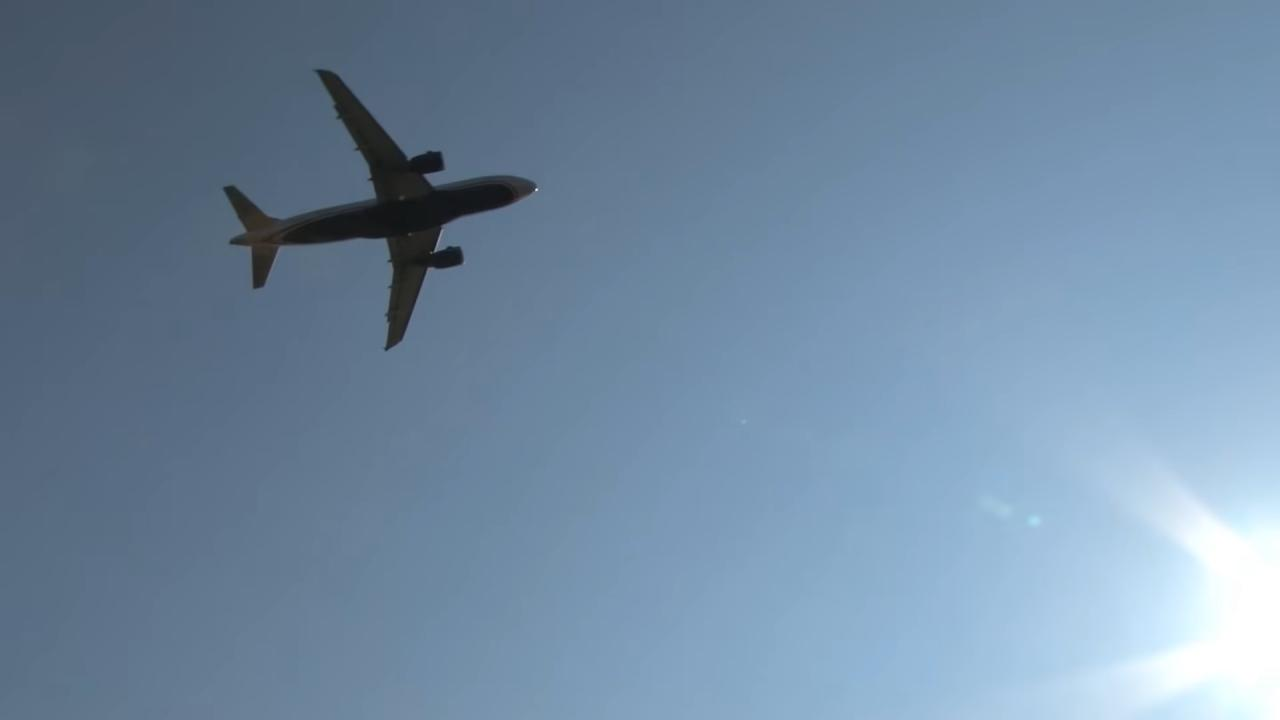Airplane: (203, 56, 558, 366)
